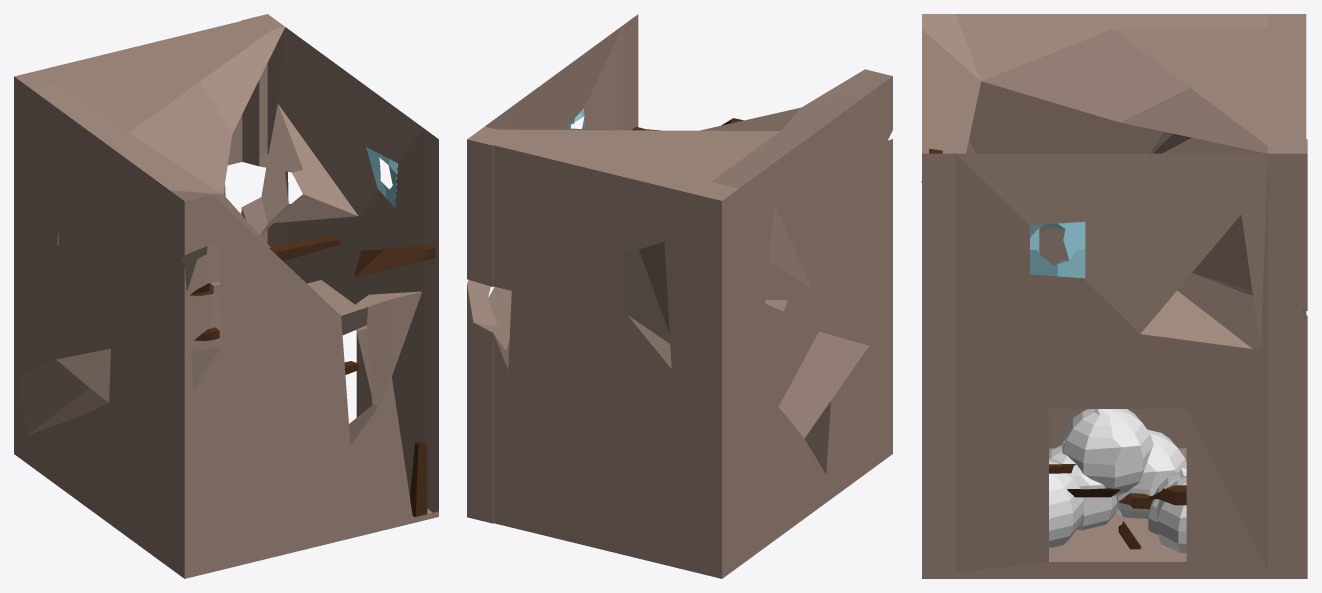
The model's file is DestroyedBuilding.fbx.
3 views of the same model, side by side, from view 1: azimuth 30°, elevation 25°; view 2: azimuth 150°, elevation 25°; view 3: azimuth 270°, elevation 25° (orthographic). The views are drawn at different scales.
Visible parts, largest first — view 1: Cube; view 2: Cube; view 3: Cube.
Boxes of the visible parts, box(x1,y1,x2,y2) form: Cube: box(14, 14, 438, 578); Cube: box(467, 14, 892, 578); Cube: box(921, 14, 1307, 578).
Size of the model in its own units: 2487 by 2973 by 2282.
